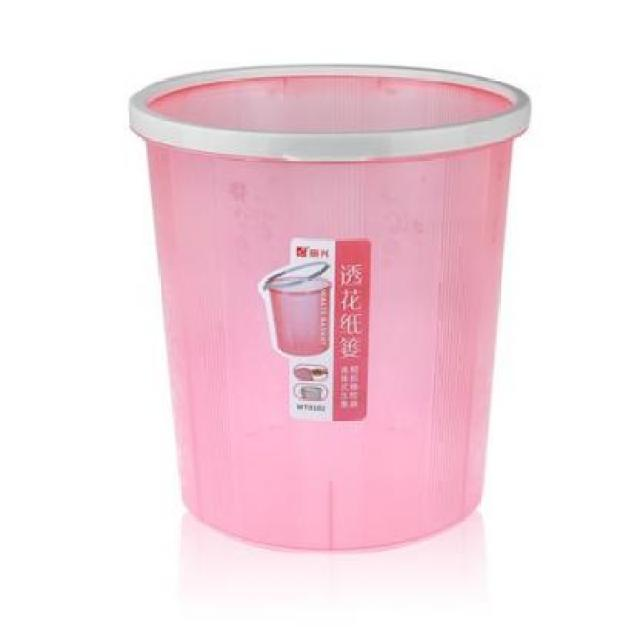dustbin: (123, 57, 536, 558)
